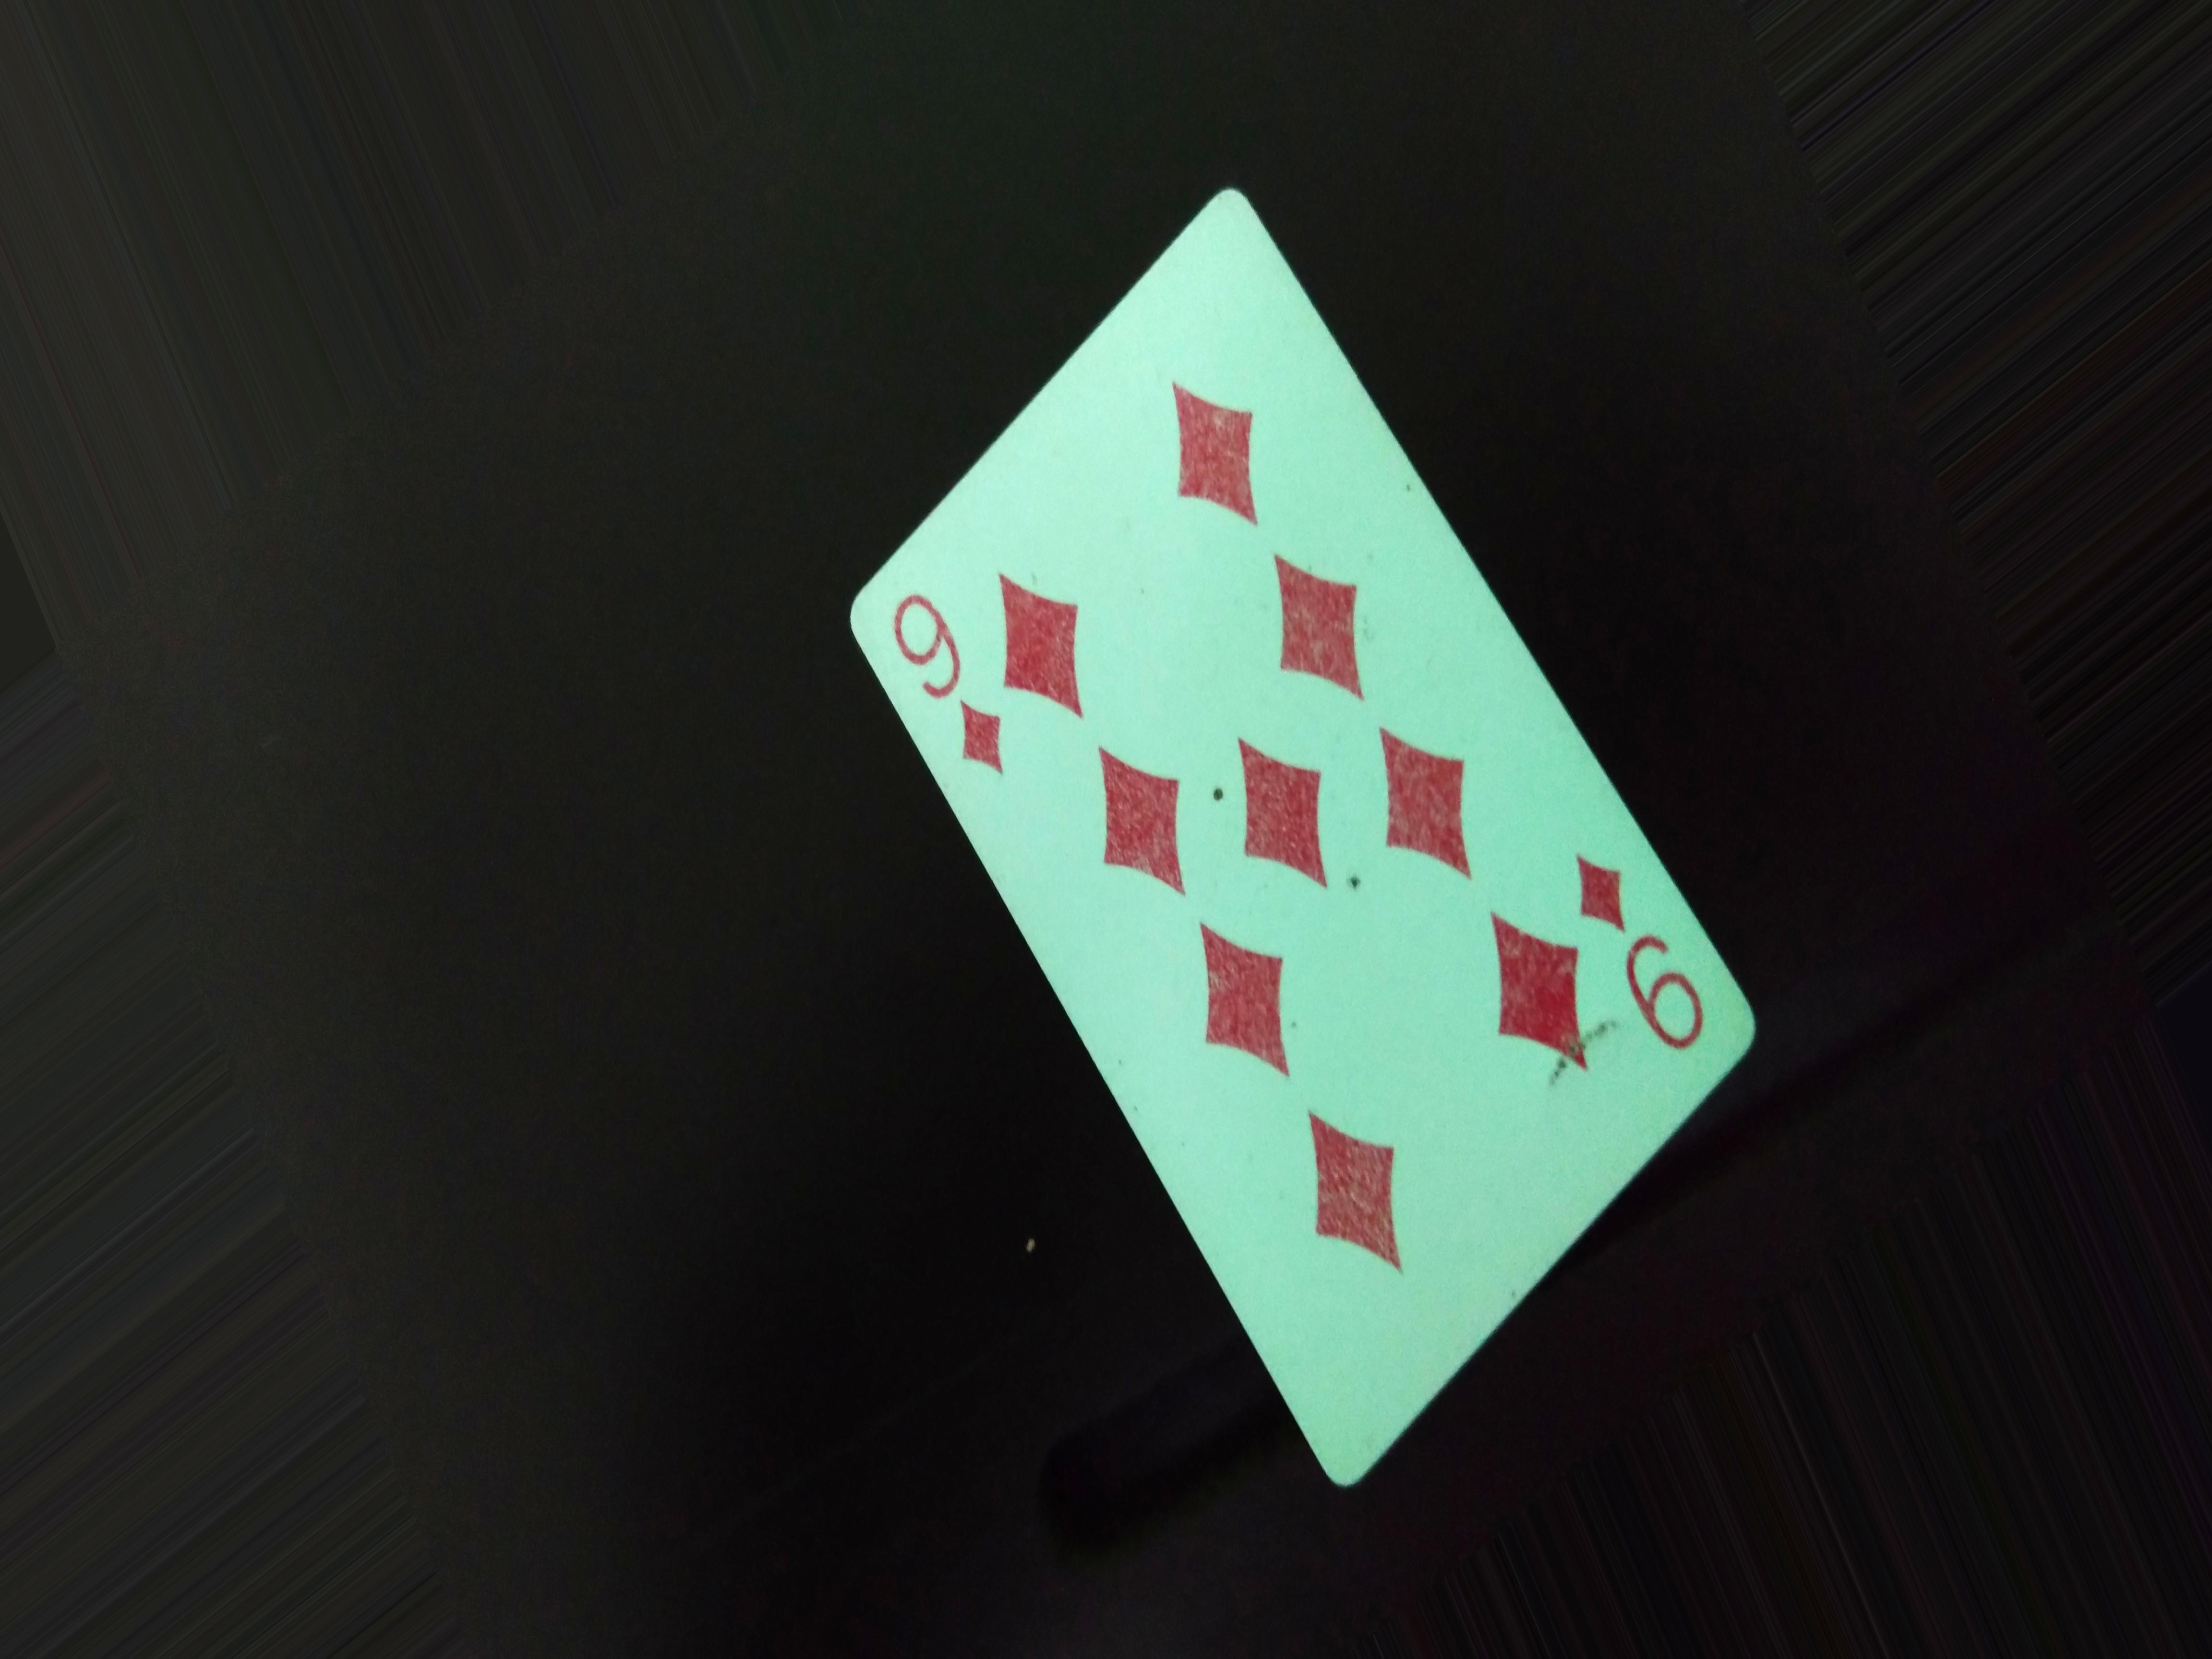9D: (880, 594, 1055, 831)
